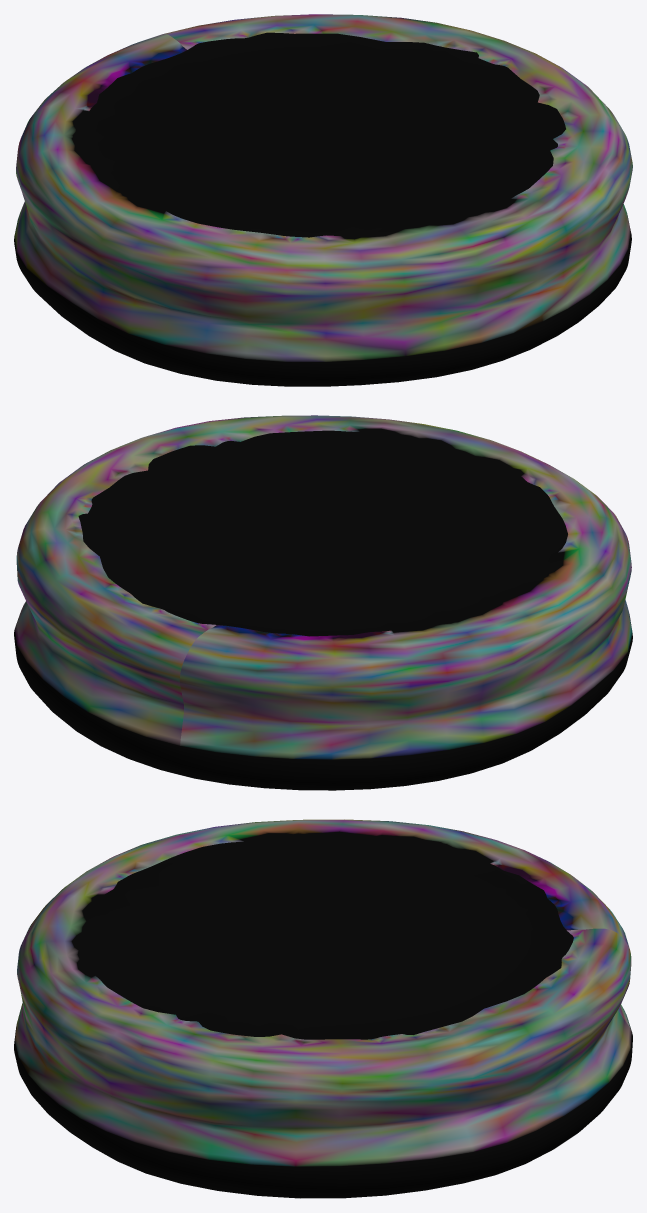
File: PizzaCheezyPuck_SM.gltf
3 renders of one model, top to bottom at view 1: azimuth 30°, elevation 25°; view 2: azimuth 150°, elevation 25°; view 3: azimuth 270°, elevation 25°, orthographic.
Visible parts, largest first — view 1: PizzaCheezyPuck_SM; view 2: PizzaCheezyPuck_SM; view 3: PizzaCheezyPuck_SM.
Part boxes in pixels (x1,y1,x2,y2): PizzaCheezyPuck_SM: [14, 14, 632, 386]; PizzaCheezyPuck_SM: [14, 415, 632, 790]; PizzaCheezyPuck_SM: [14, 819, 632, 1198].
Bounding box in the file's own units: 2.2 × 0.5722 × 2.21.
